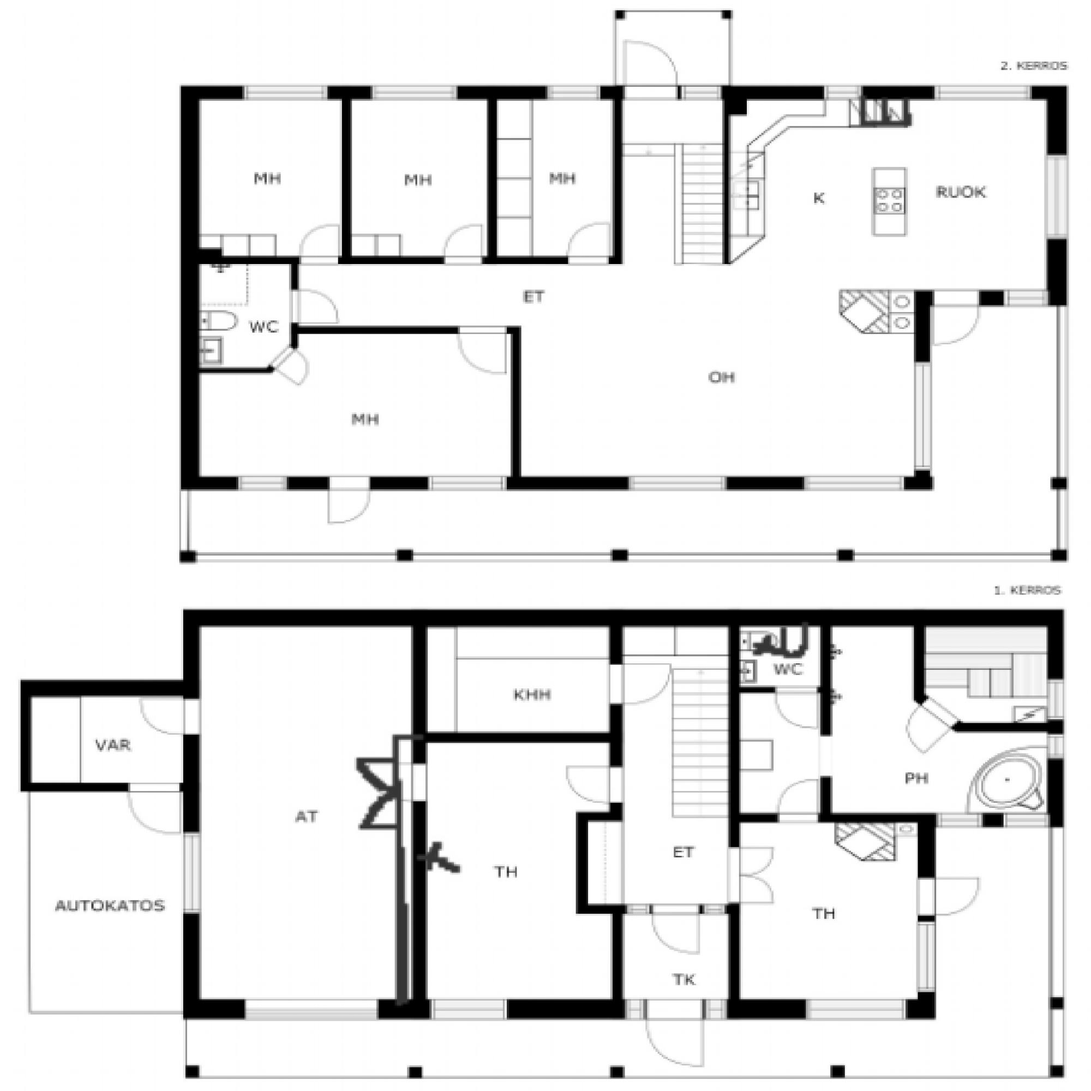wall: (183, 999, 934, 1019), (183, 611, 1063, 626), (182, 85, 1065, 98), (182, 476, 929, 489), (183, 611, 198, 1019), (182, 85, 197, 489), (1047, 85, 1066, 304), (728, 611, 738, 1019), (395, 733, 408, 1020), (182, 256, 622, 264), (1047, 611, 1063, 827), (919, 814, 935, 1020), (914, 289, 929, 489), (20, 680, 198, 694), (914, 288, 1066, 304), (820, 611, 831, 822), (395, 733, 623, 743), (914, 691, 965, 730), (919, 814, 1063, 827), (610, 611, 623, 743), (413, 611, 426, 743), (613, 85, 622, 264), (291, 327, 520, 334), (728, 814, 919, 822), (488, 85, 496, 264), (343, 85, 351, 264), (20, 784, 198, 792), (512, 327, 520, 489), (576, 812, 588, 913), (610, 733, 623, 820), (20, 680, 30, 792), (723, 85, 729, 264), (622, 905, 738, 914), (613, 905, 622, 1020), (265, 343, 297, 373), (914, 611, 924, 698), (957, 723, 1063, 730), (728, 687, 831, 693), (291, 256, 297, 347), (182, 368, 270, 373), (576, 812, 622, 820), (576, 905, 622, 913)
